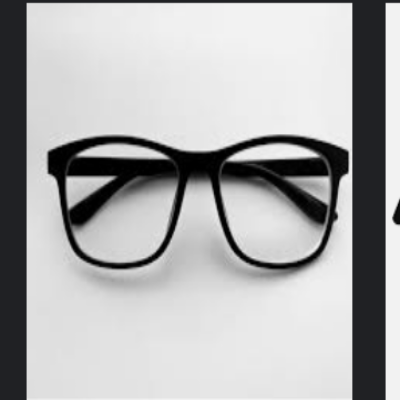glasses: (43, 132, 346, 281)
